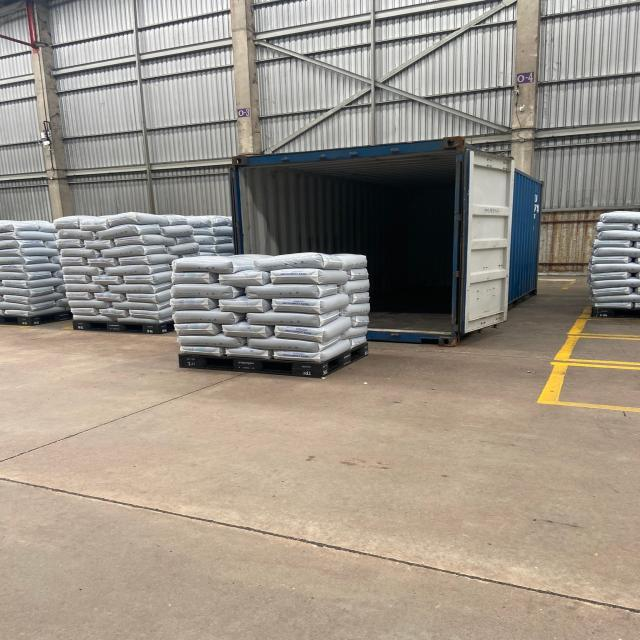gunny_bag: (253, 253, 344, 272), (170, 256, 253, 273), (250, 314, 325, 326), (271, 268, 324, 284), (246, 286, 322, 297), (172, 285, 236, 298), (175, 312, 239, 324), (252, 338, 314, 350), (273, 300, 327, 312), (178, 336, 241, 346), (219, 272, 270, 284), (223, 326, 270, 338), (281, 327, 320, 340), (220, 302, 266, 312), (175, 324, 218, 334), (225, 349, 268, 359), (172, 272, 211, 283), (278, 352, 320, 362), (172, 300, 212, 310), (180, 346, 222, 354)
